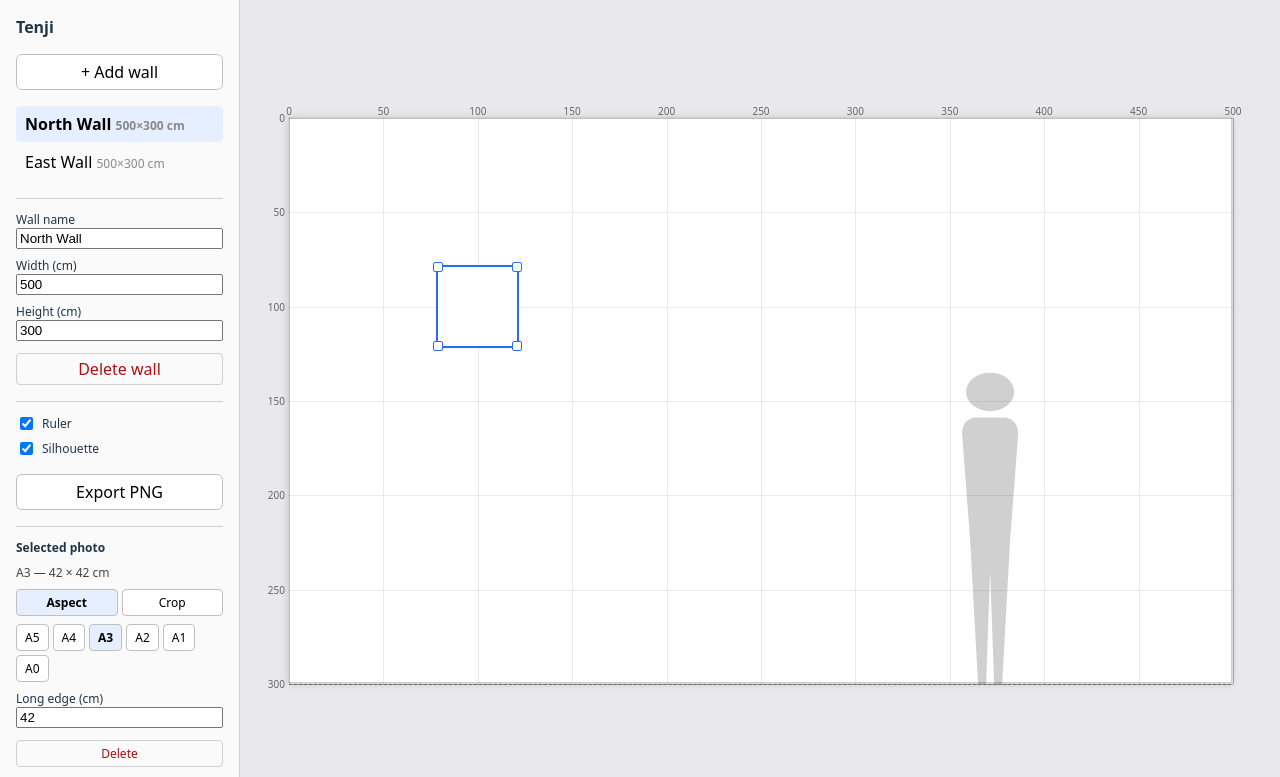
it: App › inspector Delete removes ONLY the selected placement instance — other copies of the same photo stay
Expected: the element with test id "placement-inspector" is shown, x1=16 y1=526 x2=223 y2=767
Click the button "Delete" at x=120, y=754, box x1=16 y1=740 x2=223 y2=767
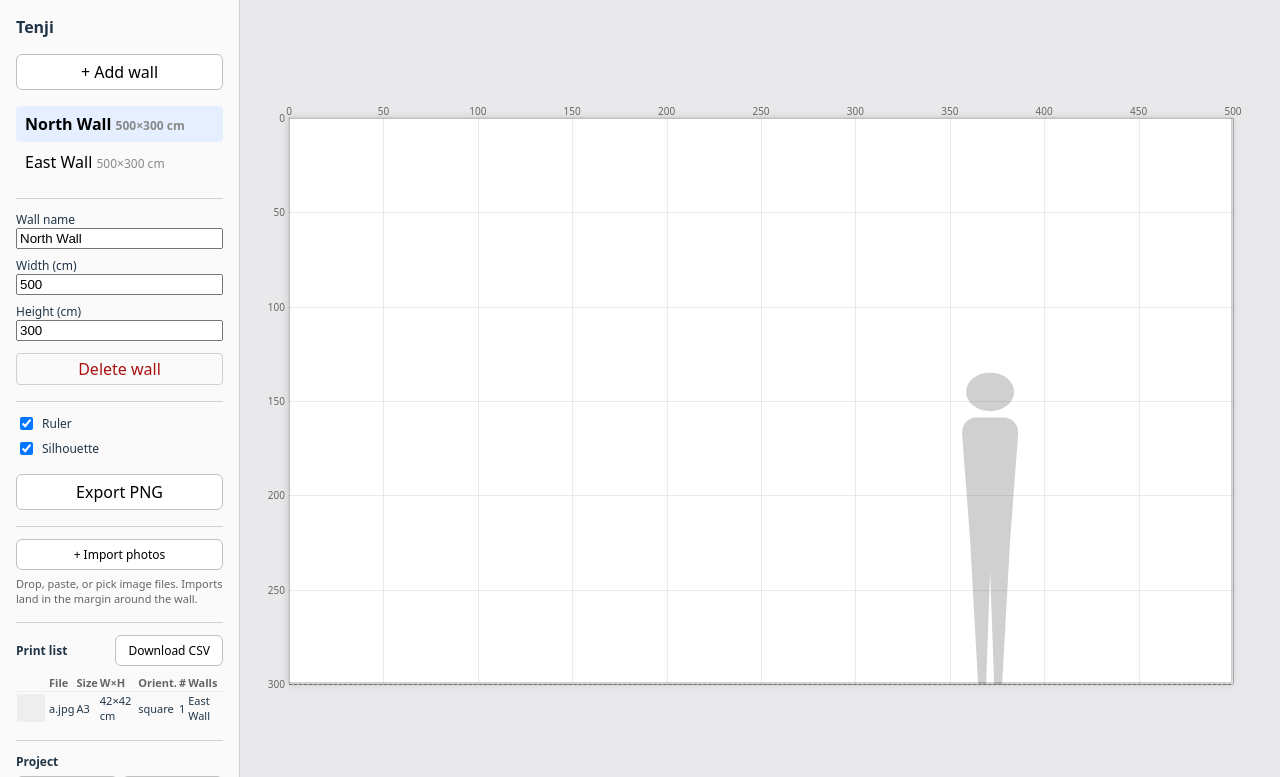
Expected: the element with test id "placement-pl-1" is gone
Expected: the element with test id "placement-inspector" is gone
Note: The other instance on a different wall is untouched.
Click the button "East Wall 500×300 cm" at x=120, y=162, box x1=16 y1=144 x2=223 y2=180
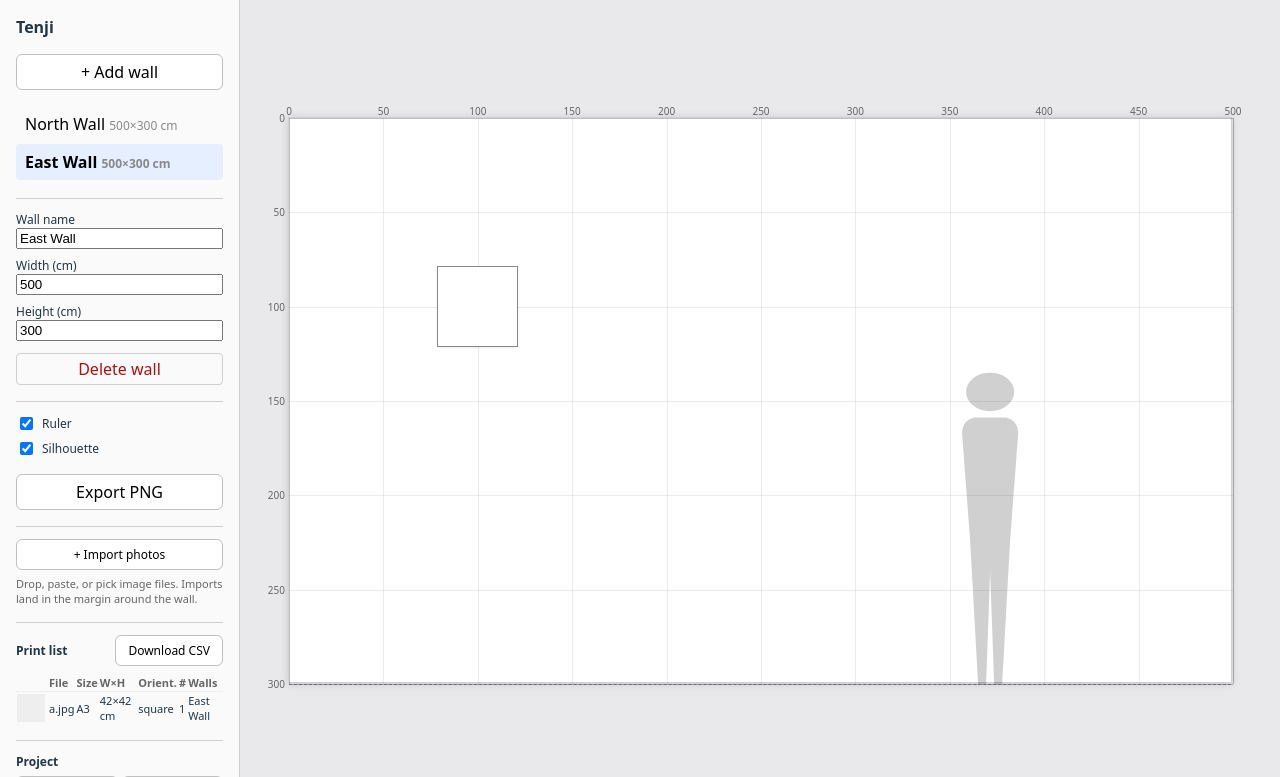
Expected: the element with test id "placement-pl-2" is shown, x1=438 y1=267 x2=517 y2=346
